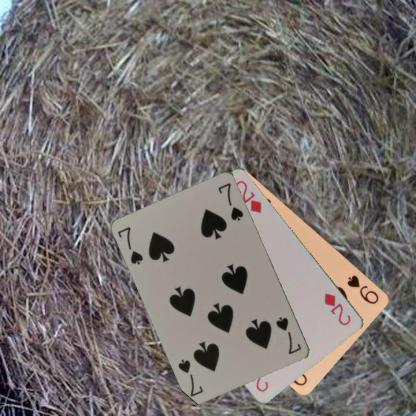2d: (322, 290, 352, 327)
7s: (274, 314, 304, 356), (115, 224, 145, 266)
9s: (344, 272, 381, 306)
